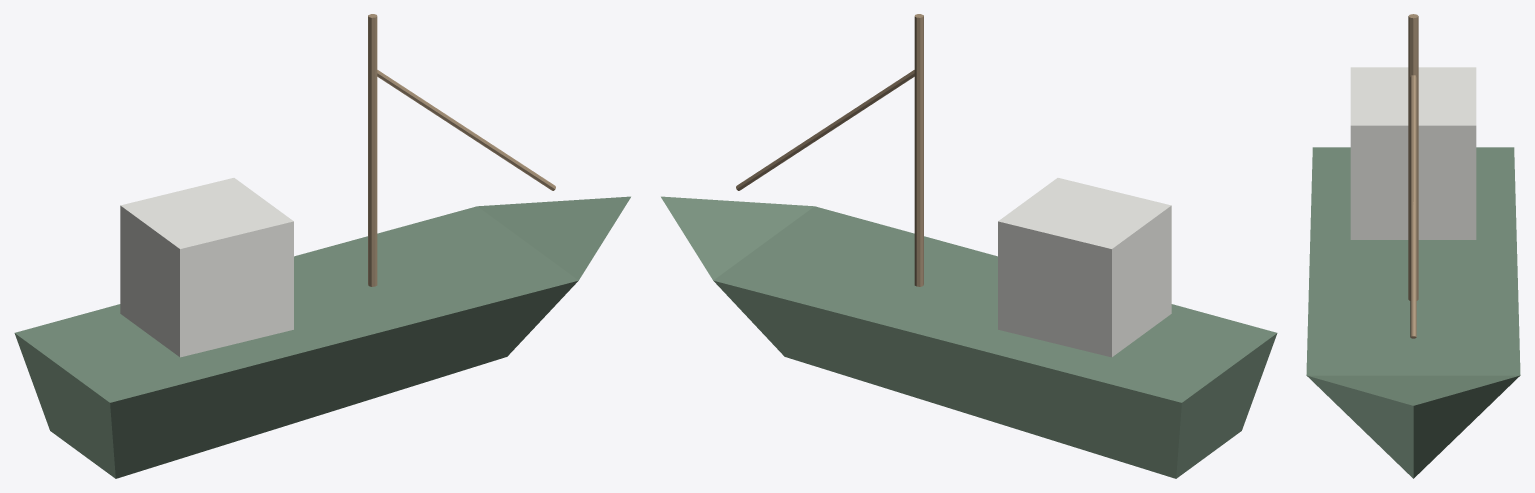
The model's file is FishingBoat.glb.
3 views of the same model, side by side, from view 1: azimuth 30°, elevation 25°; view 2: azimuth 150°, elevation 25°; view 3: azimuth 270°, elevation 25° (orthographic). The views are drawn at different scales.
Visible parts, largest first — view 1: Hull.002, Wheelhouse.002, Member.006, Member.007; view 2: Hull.002, Wheelhouse.002, Member.006, Member.007; view 3: Hull.002, Wheelhouse.002, Member.006, Member.007.
Boxes of the visible parts, x1=… form: Hull.002: x1=14, y1=196, x2=630, y2=478; Wheelhouse.002: x1=120, y1=178, x2=293, y2=357; Member.006: x1=368, y1=14, x2=377, y2=286; Member.007: x1=377, y1=70, x2=555, y2=190; Hull.002: x1=661, y1=196, x2=1277, y2=478; Wheelhouse.002: x1=998, y1=178, x2=1171, y2=357; Member.006: x1=914, y1=14, x2=923, y2=286; Member.007: x1=736, y1=70, x2=914, y2=190; Hull.002: x1=1306, y1=147, x2=1520, y2=478; Wheelhouse.002: x1=1350, y1=67, x2=1476, y2=239; Member.006: x1=1408, y1=14, x2=1418, y2=300; Member.007: x1=1410, y1=75, x2=1416, y2=338.
Size of the model in its own units: 11 by 6.9 by 3.4.
